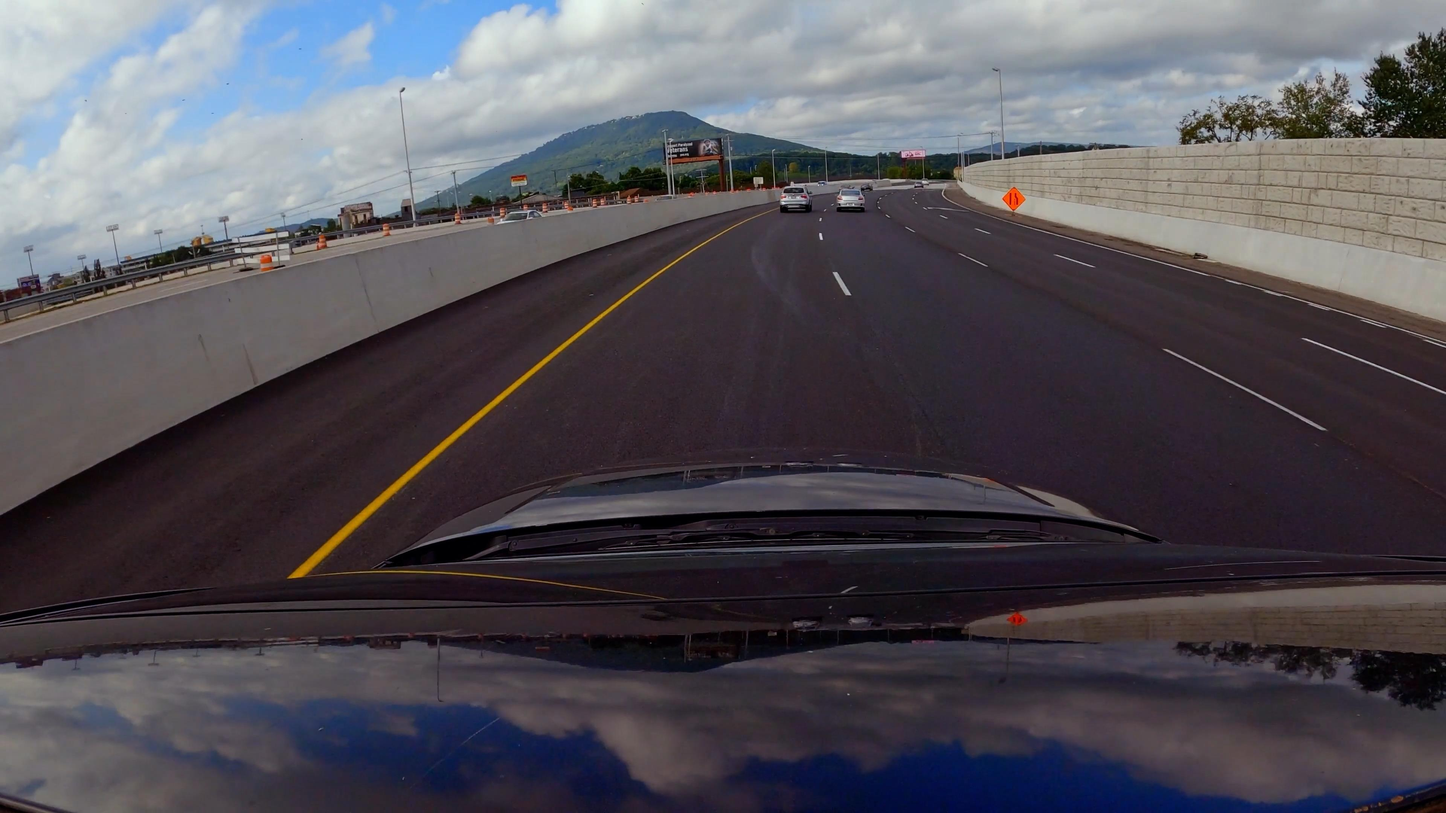dry: (0, 180, 1446, 612)
